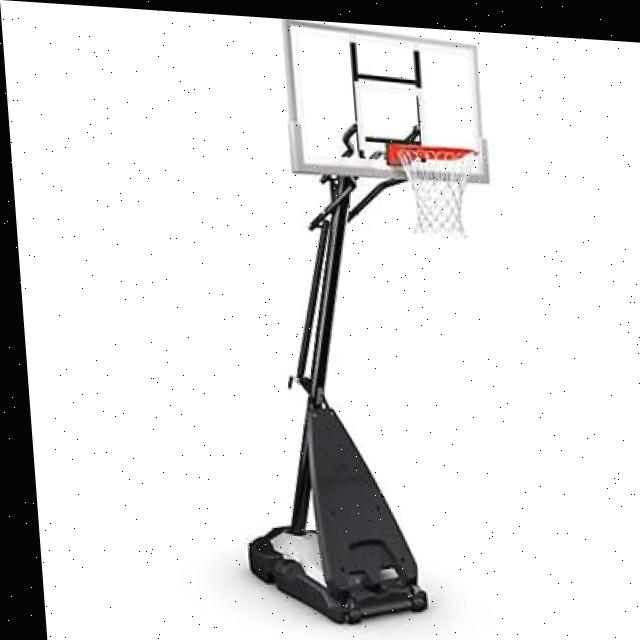hoop: (396, 144, 485, 243)
